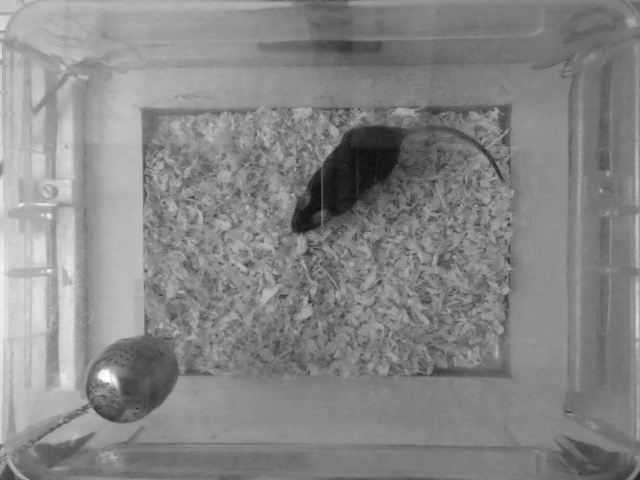mice: (289, 119, 508, 239)
